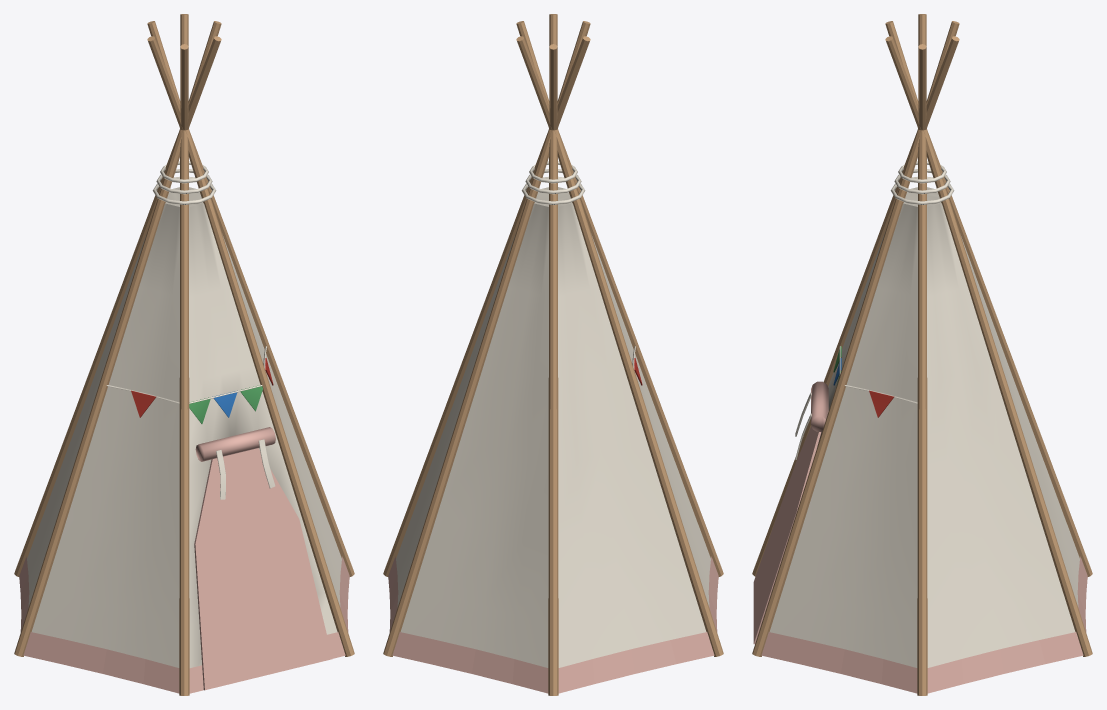
File: playTent.glb
3 views of the same model, side by side, from view 1: azimuth 30°, elevation 25°; view 2: azimuth 150°, elevation 25°; view 3: azimuth 270°, elevation 25° (orthographic).
Parts seen in each view (by area): view 1: body, flap; view 2: body; view 3: body, flap.
Part boxes in pixels (<box>): body: <box>14,14,354,695</box>; flap: <box>194,448,332,690</box>; body: <box>383,14,723,695</box>; body: <box>752,14,1092,695</box>; flap: <box>753,426,821,644</box>.
Bounding box in the file's own units: 0.9516 × 1.57 × 0.8269.
